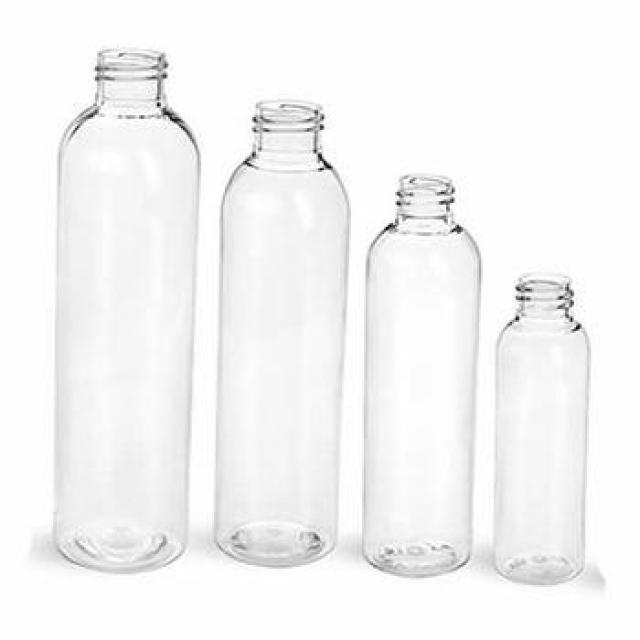plastic_bottle: (55, 49, 205, 570), (212, 95, 349, 569), (358, 169, 483, 586), (489, 269, 604, 600)
